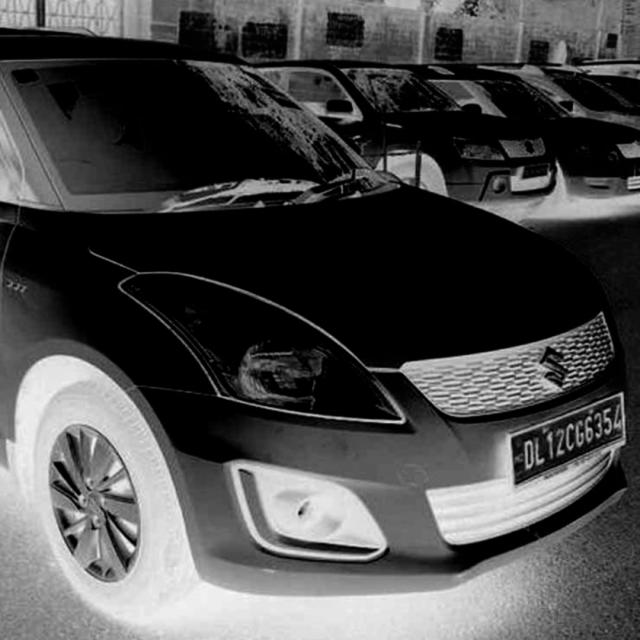1: (546, 429, 556, 462)
2: (556, 427, 567, 459)
3: (594, 409, 604, 438)
4: (614, 402, 624, 433)
5: (603, 405, 613, 435)
6: (585, 411, 595, 445)
C: (565, 422, 577, 452)
D: (524, 438, 536, 472)
G: (576, 417, 586, 449)
IND: (511, 437, 525, 474)
Indian_registered: (511, 394, 625, 484)
L: (534, 433, 546, 467)
